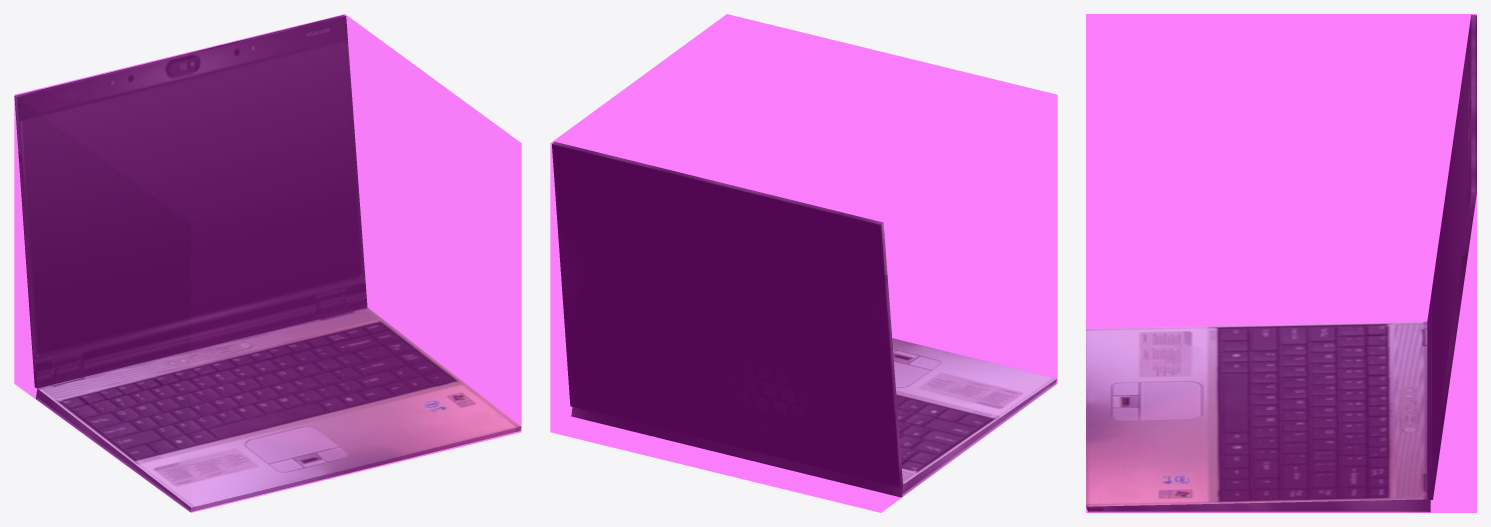
File: notebook_pc.fbx
The picture shows the model from 3 angles, left to right: view 1: azimuth 30°, elevation 25°; view 2: azimuth 150°, elevation 25°; view 3: azimuth 270°, elevation 25°; orthographic projection. The views are drawn at different scales.
Parts seen in each view (by area): view 1: note_pc_boundingBox, note_pc; view 2: note_pc_boundingBox, note_pc; view 3: note_pc_boundingBox, note_pc.
Boxes of the visible parts, x1=… form: note_pc_boundingBox: x1=14, y1=14, x2=521, y2=512; note_pc: x1=14, y1=15, x2=521, y2=511; note_pc_boundingBox: x1=550, y1=14, x2=1057, y2=512; note_pc: x1=552, y1=141, x2=1056, y2=497; note_pc_boundingBox: x1=1086, y1=14, x2=1476, y2=512; note_pc: x1=1086, y1=14, x2=1476, y2=512.
Bounding box in the file's own units: 0.2223 × 0.1858 × 0.2055.
Materials: 2 (1 with a texture image).
